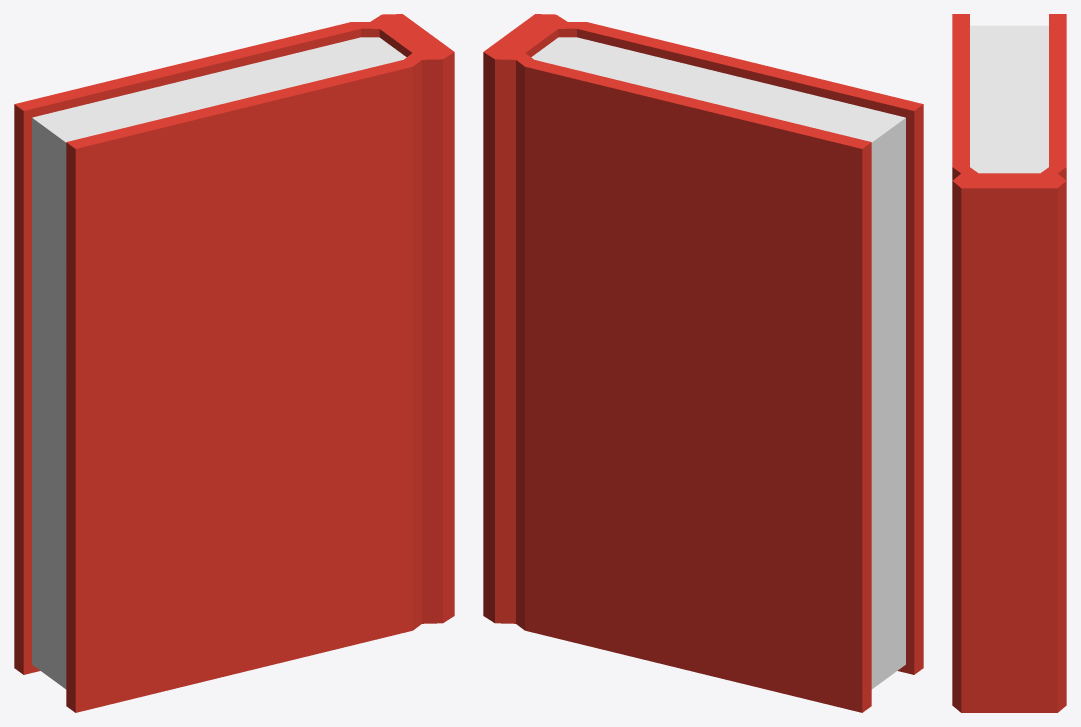
Rendered from Book (Red).glb.
3 renders of one model, left to right at view 1: azimuth 30°, elevation 25°; view 2: azimuth 150°, elevation 25°; view 3: azimuth 270°, elevation 25°, orthographic. The views are drawn at different scales.
Visible parts, largest first — view 1: Node; view 2: Node; view 3: Node.
Boxes of the visible parts, x1,y1,x2,y2 form: Node: [14, 14, 454, 712]; Node: [483, 14, 923, 712]; Node: [952, 14, 1066, 712].
Size of the model in its own units: 0.47 by 0.66 by 0.13.
